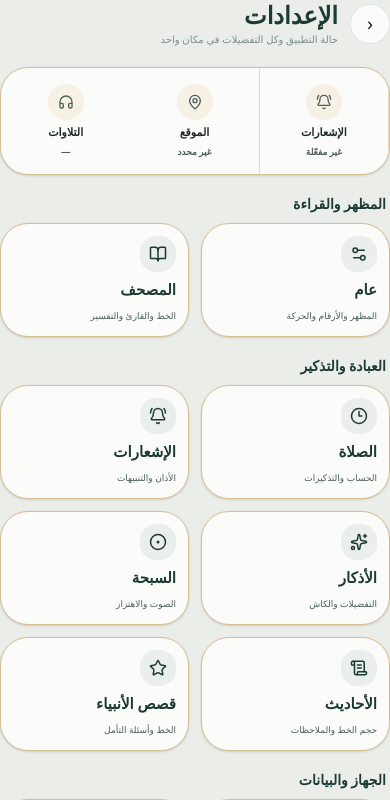
SettingsView smoke coverage › opens the tasbih category and exposes the tasbih sound toggle
Step 1. Click the button "السبحة الصوت والاهتزاز" → (94, 568), box [0,511,189,625]
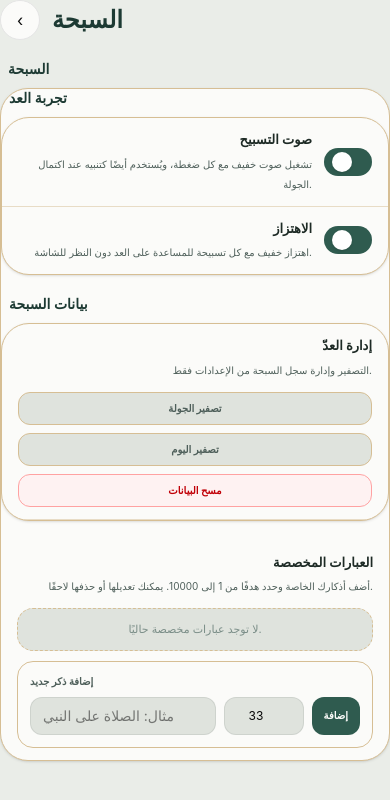
expect the text "السبحة" is shown: met, box [52,4,123,36]
expect the switch named "صوت التسبيح" is shown: met, box [324,148,372,176]
